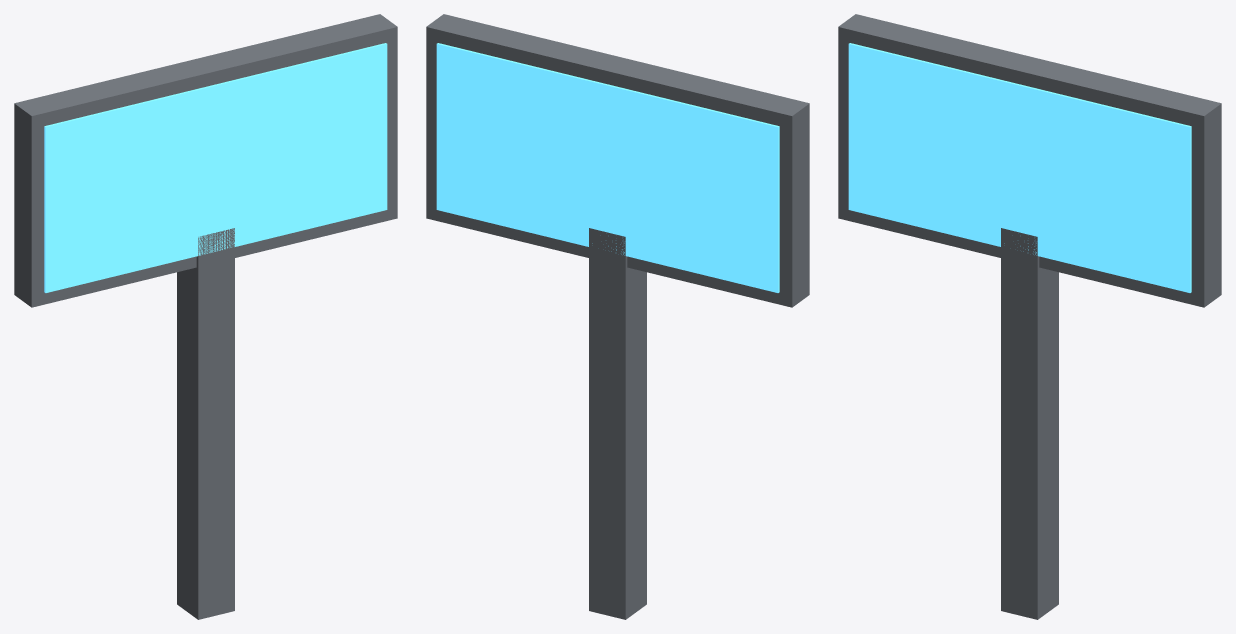
Rendered from scoreboard_tower.glb.
3 views of the same model, side by side, from view 1: azimuth 30°, elevation 25°; view 2: azimuth 150°, elevation 25°; view 3: azimuth 330°, elevation 25° (orthographic).
Parts seen in each view (by area): view 1: scoreboard_tower; view 2: scoreboard_tower; view 3: scoreboard_tower.
Boxes of the visible parts, box(x1,y1,x2,y2) form: scoreboard_tower: box(14, 14, 397, 619); scoreboard_tower: box(426, 14, 809, 619); scoreboard_tower: box(838, 14, 1221, 619).
Bounding box in the file's own units: 6 × 8.5 × 0.6.
